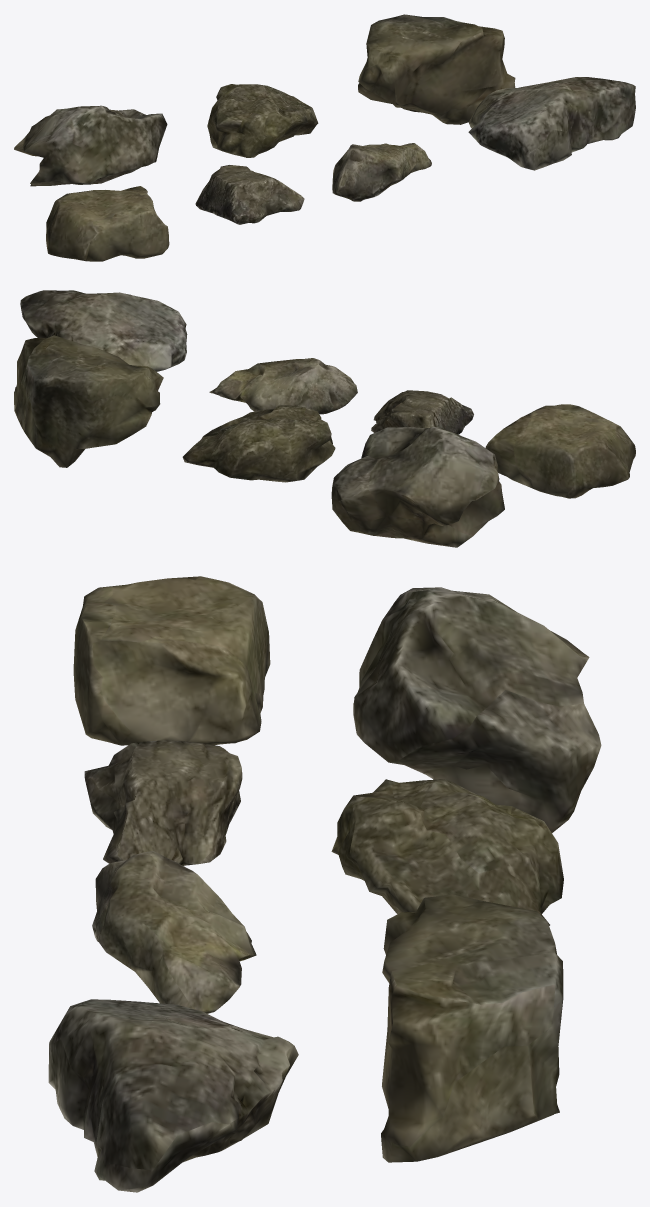
The model's file is rock_moss_set_02-high.glb.
3 renders of one model, top to bottom at view 1: azimuth 30°, elevation 25°; view 2: azimuth 150°, elevation 25°; view 3: azimuth 270°, elevation 25°, orthographic. The views are drawn at different scales.
Visible parts, largest first — view 1: rock_moss_set_02_rock13, rock_moss_set_02_rock10, rock_moss_set_02_rock11, rock_moss_set_02_rock07, rock_moss_set_02_rock12, rock_moss_set_02_rock08, rock_moss_set_02_rock09; view 2: rock_moss_set_02_rock11, rock_moss_set_02_rock13, rock_moss_set_02_rock07, rock_moss_set_02_rock10, rock_moss_set_02_rock12, rock_moss_set_02_rock09, rock_moss_set_02_rock08; view 3: rock_moss_set_02_rock13, rock_moss_set_02_rock11, rock_moss_set_02_rock10, rock_moss_set_02_rock07, rock_moss_set_02_rock12, rock_moss_set_02_rock09, rock_moss_set_02_rock08.
Part boxes in pixels (x1,y1,x2,y2): rock_moss_set_02_rock13: (358, 14, 515, 124); rock_moss_set_02_rock10: (468, 77, 635, 170); rock_moss_set_02_rock11: (14, 105, 167, 186); rock_moss_set_02_rock07: (46, 186, 169, 261); rock_moss_set_02_rock12: (207, 84, 318, 157); rock_moss_set_02_rock08: (195, 165, 304, 224); rock_moss_set_02_rock09: (332, 143, 431, 201); rock_moss_set_02_rock11: (331, 427, 504, 547); rock_moss_set_02_rock13: (14, 335, 163, 467); rock_moss_set_02_rock07: (485, 404, 635, 498); rock_moss_set_02_rock10: (20, 290, 187, 371); rock_moss_set_02_rock12: (182, 405, 335, 482); rock_moss_set_02_rock09: (209, 358, 357, 414); rock_moss_set_02_rock08: (371, 390, 473, 434); rock_moss_set_02_rock13: (381, 894, 563, 1162); rock_moss_set_02_rock11: (353, 587, 601, 832); rock_moss_set_02_rock10: (48, 999, 298, 1192); rock_moss_set_02_rock07: (73, 576, 270, 745); rock_moss_set_02_rock12: (331, 779, 563, 925); rock_moss_set_02_rock09: (92, 851, 256, 1013); rock_moss_set_02_rock08: (84, 740, 242, 865).
Bounding box in the file's own units: 8.28 × 1.35 × 3.4.
1 material, 1 textured.
